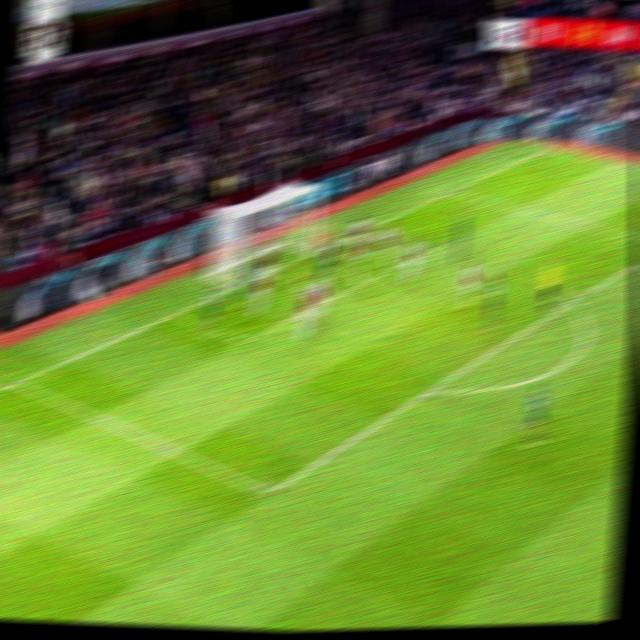bigarea_bottom_inner: (253, 474, 285, 510)
bigarea_bottom_outter: (3, 369, 31, 394)
bigarea_top_outter: (442, 181, 464, 200)
bottom_arc_area_intersection: (414, 374, 447, 406)
corner: (535, 141, 560, 156)
smallarea_bottom_inner: (231, 324, 260, 355)
smallarea_bottom_outter: (160, 300, 189, 325)
smallarea_top_inner: (415, 237, 441, 261)
top_arc_area_intersection: (555, 288, 586, 317)
